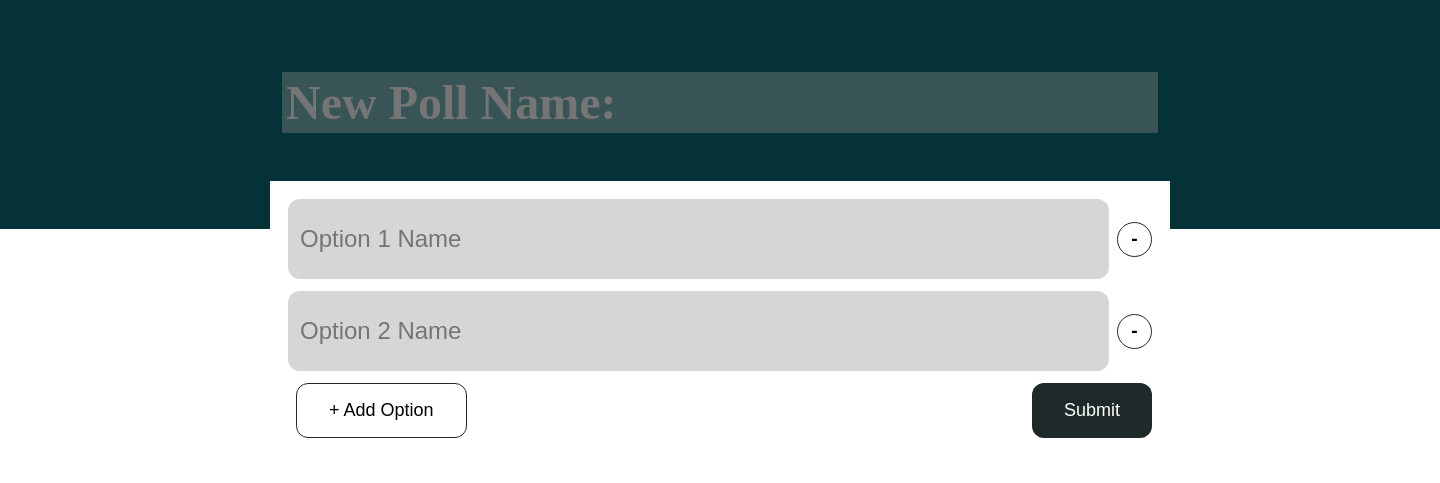
Test case: Shows poll option validation errors
Expected: the button "+ Add Option" is shown, [296,383,467,438]
Type "This is a proper poll name." into the field with placeholder "New Poll Name:" at (720, 102), box [282,72,1158,133]
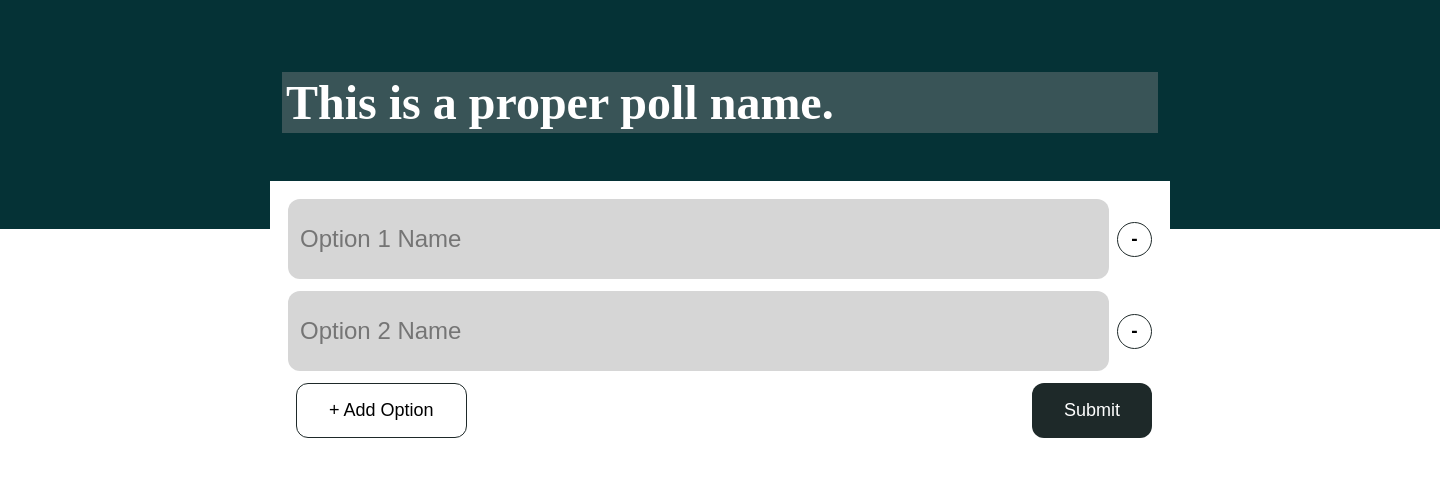
Type "TestOption 2" into the field with placeholder "Option 2 Name" at (698, 331), box [288,291,1109,371]
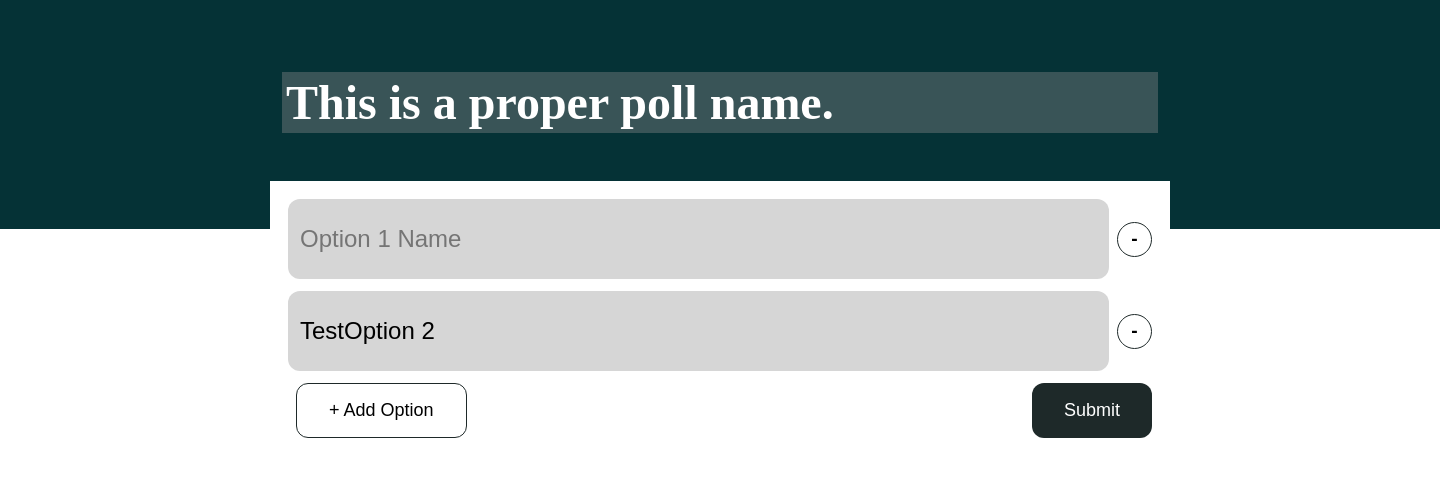
Click the button "Submit" at (1092, 410), box [1032,383,1152,438]
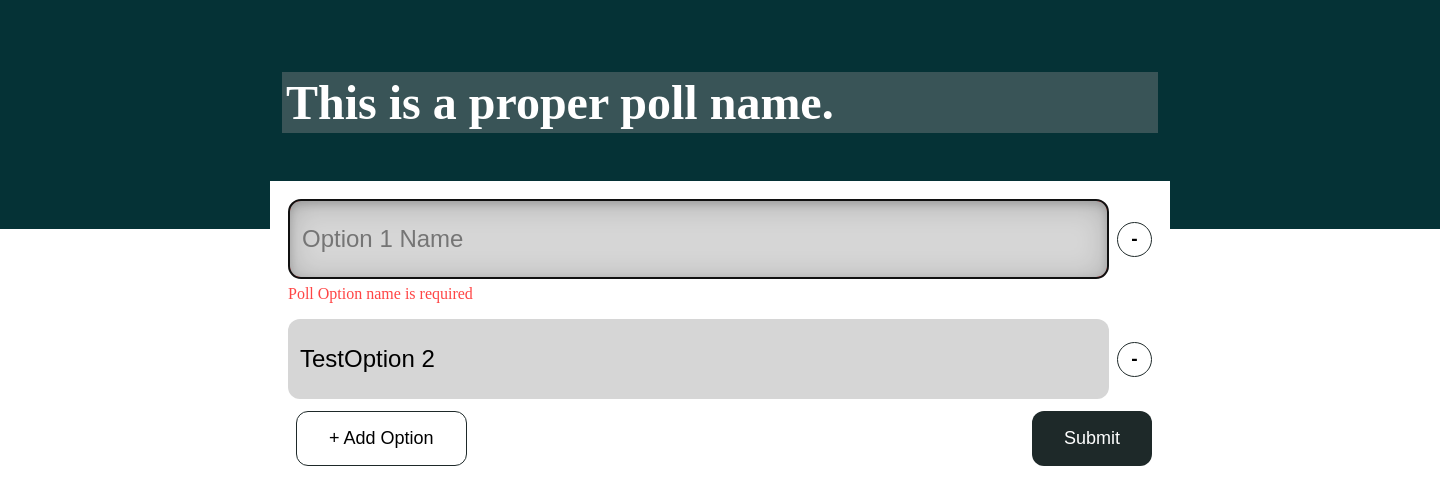
Result: the text "Poll Option name is required" is shown at [288,285,473,302]
# Test if long poll option name returns proper message
Type "This is a poll option name over 60 characters long to test validation." into the field with placeholder "Option 1 Name" at (698, 239), box [288,199,1109,279]
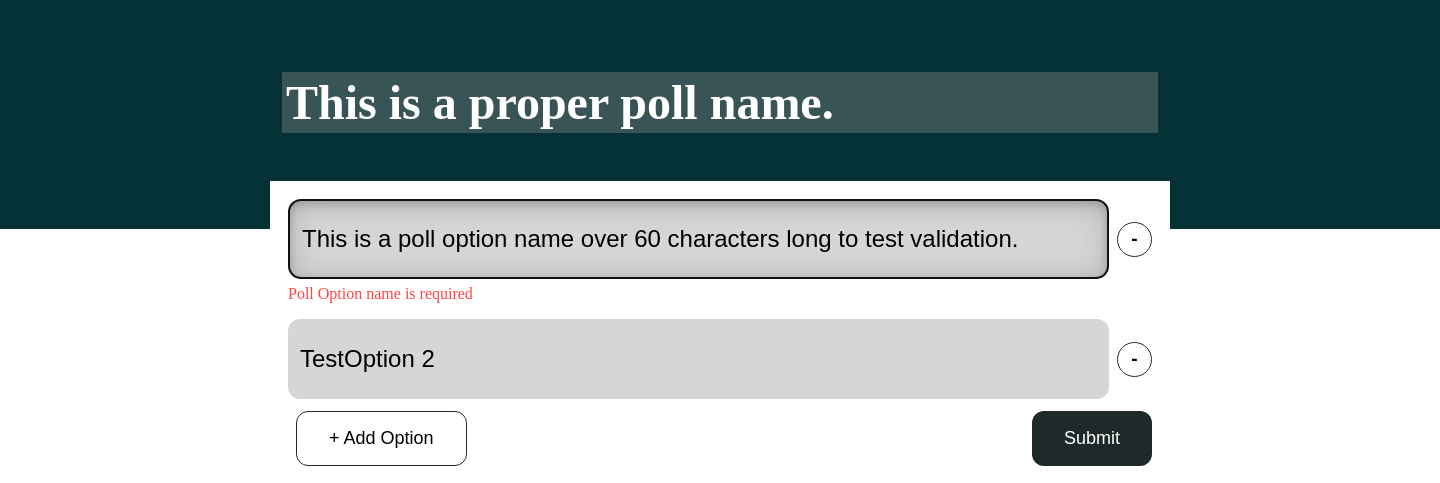
Click the button "Submit" at (1092, 438), box [1032,411,1152,466]
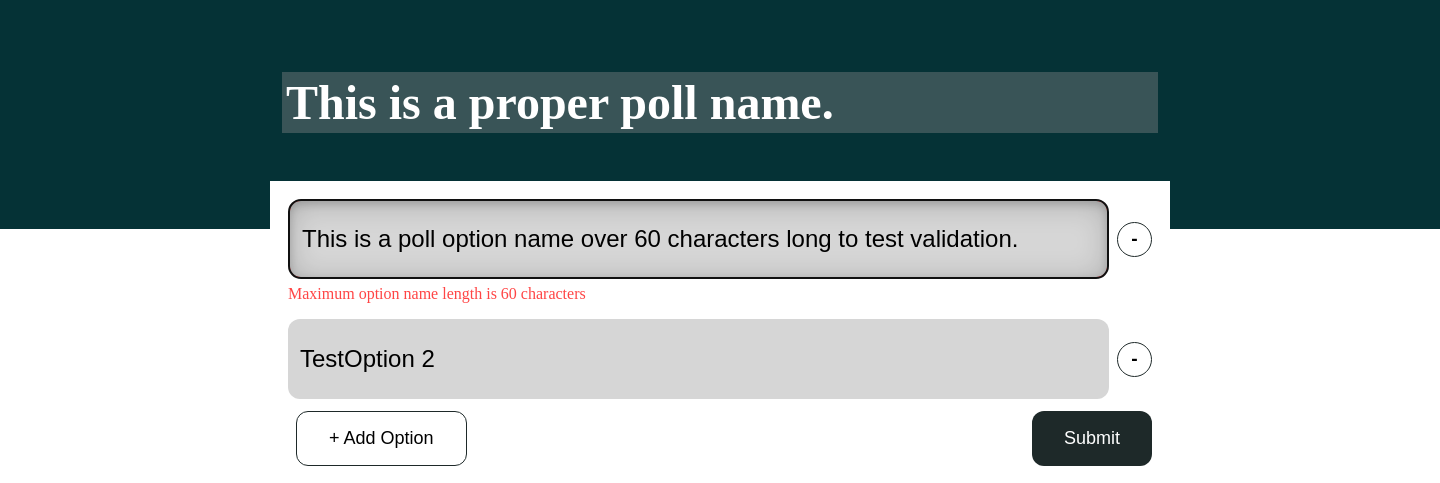
Result: the text "Maximum option name length is 60 characters" is shown at [288,285,586,302]
